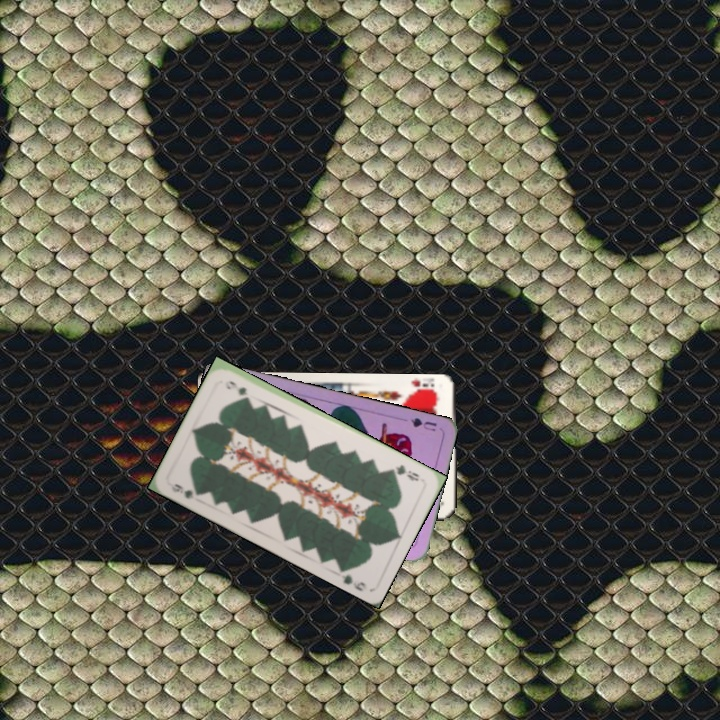G9: (167, 479, 206, 502), (387, 460, 422, 484)
GU: (407, 414, 439, 434)
HK: (404, 377, 440, 397)
